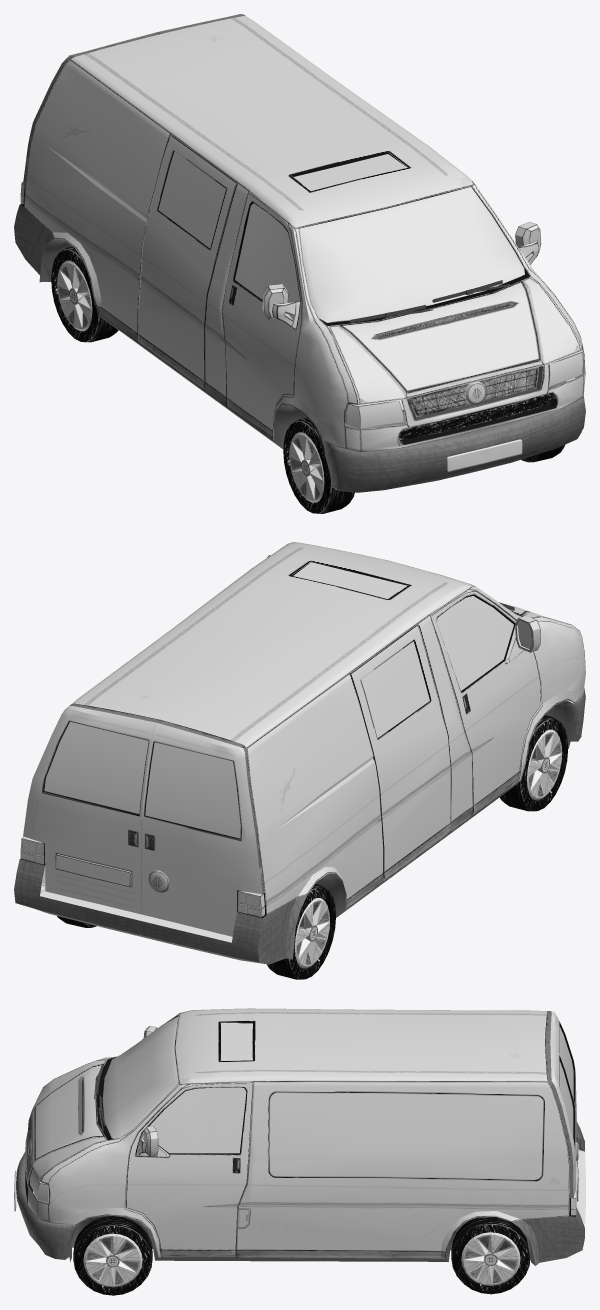
File: Van.fbx
The picture shows the model from 3 angles, top to bottom: view 1: azimuth 30°, elevation 25°; view 2: azimuth 150°, elevation 25°; view 3: azimuth 270°, elevation 25°; orthographic projection. The views are drawn at different scales.
Parts seen in each view (by area): view 1: BodyExterior, FrontVisor, FrontHood, RightDoor2, FrontBump, RightDoor1, FrontFilters, RightVisor1, L_F_Wheel.001, RightVisor2, L_F_Wheel.003, BackBump (+6 smaller); view 2: BodyExterior, BackDoor2, BackDoor1, RightDoor2, RightDoor1, BackBump, BackVisor1, BackVisor2, RightVisor1, RightVisor2, L_F_Wheel.001, L_F_Wheel.003 (+4 smaller); view 3: BodyExterior, LeftDoor, FrontHood, FrontVisor, LeftVisor, L_F_Wheel, L_F_Wheel.002, BackBump, FrontBump, BackDoor1, TopVisor, BodyInteriorBack (+4 smaller).
Part boxes in pixels (left/top/right/bottom): BodyExterior: left=24, top=16, right=585, bottom=452; FrontVisor: left=299, top=187, right=524, bottom=322; FrontHood: left=327, top=277, right=581, bottom=404; RightDoor2: left=138, top=136, right=236, bottom=388; FrontBump: left=273, top=381, right=585, bottom=492; RightDoor1: left=222, top=193, right=301, bottom=436; FrontFilters: left=398, top=367, right=551, bottom=439; RightVisor1: left=235, top=203, right=300, bottom=302; L_F_Wheel.001: left=283, top=417, right=354, bottom=513; RightVisor2: left=158, top=151, right=226, bottom=248; L_F_Wheel.003: left=51, top=246, right=118, bottom=342; BackBump: left=14, top=204, right=280, bottom=447; BodyExterior: left=72, top=542, right=585, bottom=914; BackDoor2: left=141, top=720, right=264, bottom=936; BackDoor1: left=23, top=704, right=159, bottom=914; RightDoor2: left=350, top=626, right=450, bottom=878; RightDoor1: left=431, top=591, right=540, bottom=811; BackBump: left=14, top=781, right=519, bottom=964; BackVisor1: left=44, top=721, right=148, bottom=813; BackVisor2: left=145, top=742, right=240, bottom=838; RightVisor1: left=437, top=596, right=513, bottom=690; RightVisor2: left=361, top=641, right=429, bottom=738; L_F_Wheel.001: left=500, top=715, right=567, bottom=811; L_F_Wheel.003: left=267, top=884, right=335, bottom=979; BodyExterior: left=25, top=1008, right=569, bottom=1258; LeftDoor: left=126, top=1083, right=252, bottom=1254; FrontHood: left=31, top=1059, right=107, bottom=1181; FrontVisor: left=102, top=1016, right=178, bottom=1138; LeftVisor: left=143, top=1087, right=246, bottom=1153; L_F_Wheel: left=73, top=1216, right=152, bottom=1295; L_F_Wheel.002: left=451, top=1217, right=530, bottom=1294; BackBump: left=155, top=1121, right=584, bottom=1265; FrontBump: left=16, top=1152, right=157, bottom=1261; BackDoor1: left=545, top=1042, right=578, bottom=1201; TopVisor: left=221, top=1023, right=252, bottom=1060; BodyInteriorBack: left=545, top=1012, right=585, bottom=1227.
Bounding box in the file's own units: 215 × 191 × 472.
